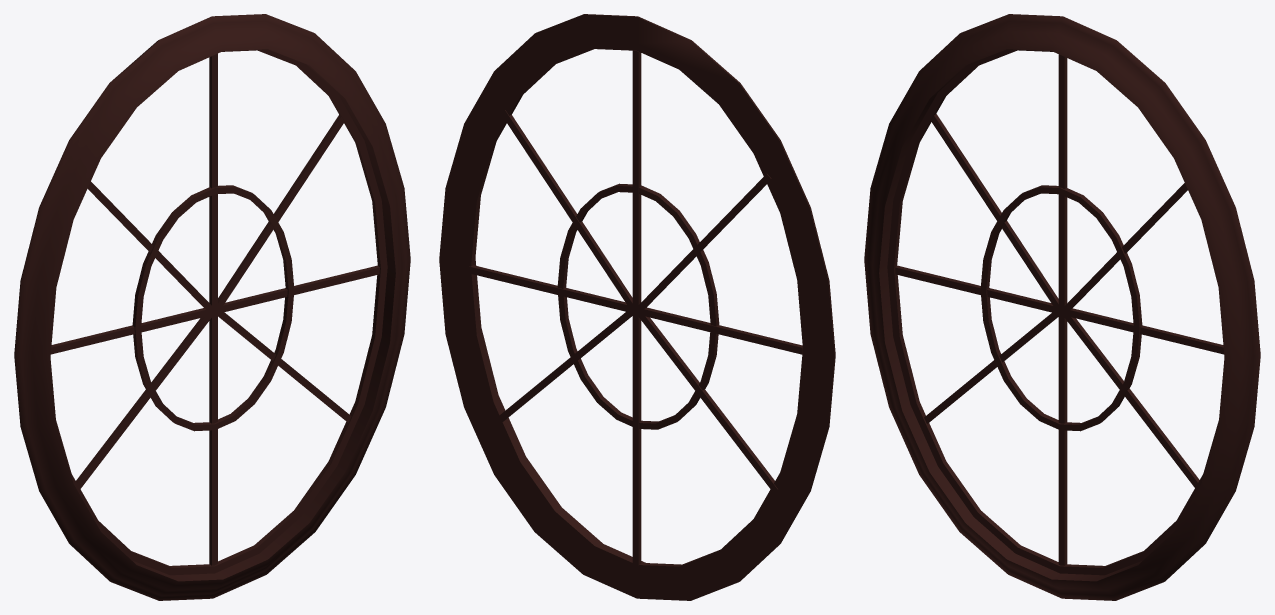
Rendered from museum_win_01.FBX.
3 views of the same model, side by side, from view 1: azimuth 30°, elevation 25°; view 2: azimuth 150°, elevation 25°; view 3: azimuth 330°, elevation 25° (orthographic).
Parts seen in each view (by area): view 1: museum_win_01; view 2: museum_win_01; view 3: museum_win_01.
Part boxes in pixels (x1=…): museum_win_01: x1=14, y1=14, x2=410, y2=600; museum_win_01: x1=439, y1=14, x2=835, y2=600; museum_win_01: x1=864, y1=14, x2=1260, y2=600.
Bounding box in the file's own units: 524 × 737 × 26.75.
